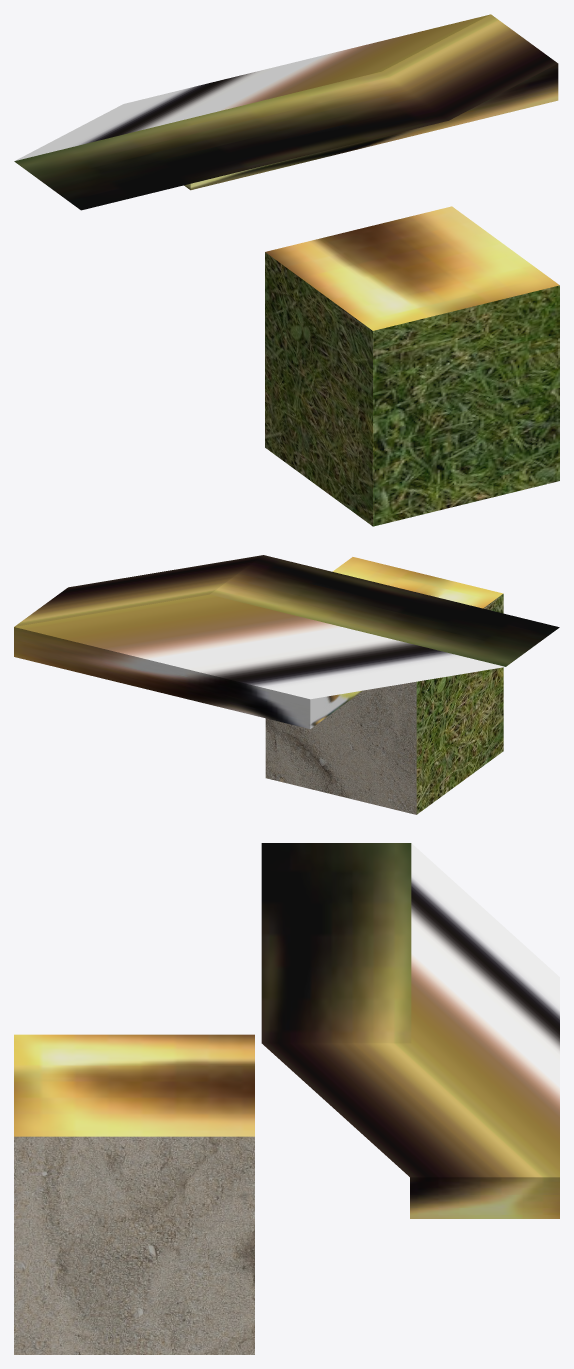
Rendered from what.obj.
3 renders of one model, top to bottom at view 1: azimuth 30°, elevation 25°; view 2: azimuth 150°, elevation 25°; view 3: azimuth 270°, elevation 25°, orthographic. The views are drawn at different scales.
Visible parts, largest first — view 1: Cube; view 2: Cube; view 3: Cube.
Boxes of the visible parts, box(x1,y1,x2,y2) form: Cube: box(14, 14, 559, 526); Cube: box(14, 555, 559, 814); Cube: box(14, 843, 559, 1354).
Bounding box in the file's own units: 5.82 × 2.85 × 4.53.
